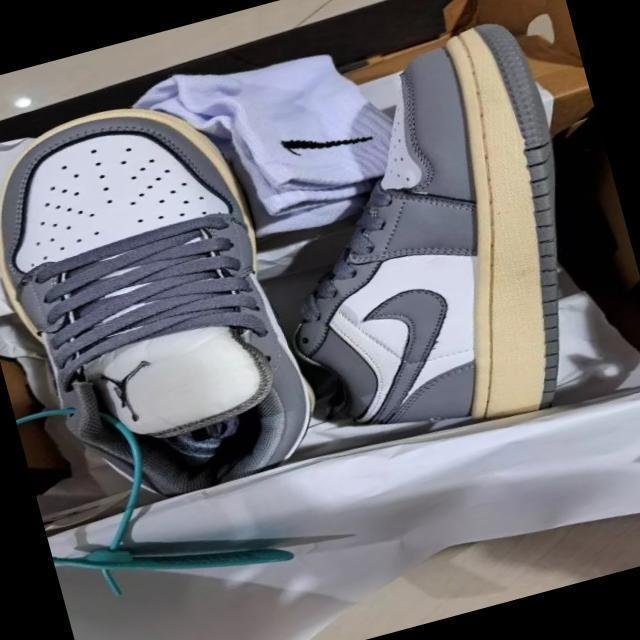nike fake jordan 1: (220, 11, 624, 470), (0, 70, 335, 532)
